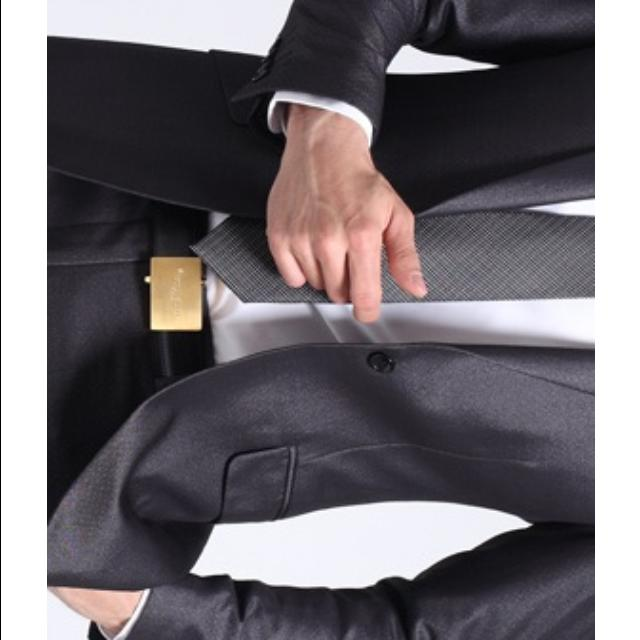polyester: (202, 0, 594, 640)
